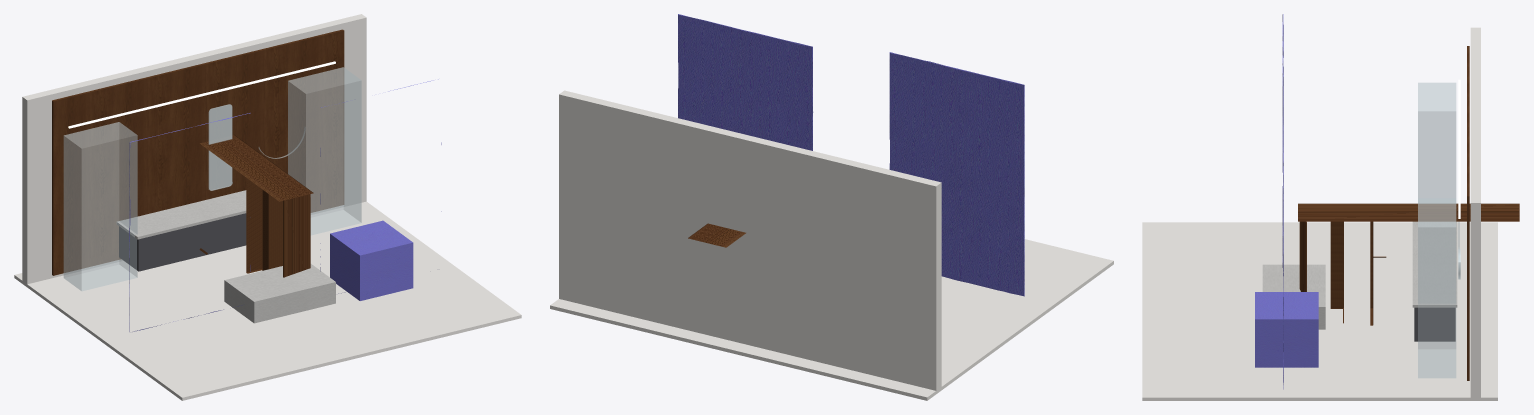
Rendered from movel-design-autoral.glb.
3 renders of one model, left to right at view 1: azimuth 30°, elevation 25°; view 2: azimuth 150°, elevation 25°; view 3: azimuth 270°, elevation 25°, orthographic. The views are drawn at different scales.
Visible parts, largest first — view 1: node_ceramica_acetinada, node_madeira_deck_natural, node_vidro_pele_de_vidro, node_pedra_bancada_clearcoat, node_tecido_juta_linho, node_metal_matte_black, node_fita_led_2700k; view 2: node_ceramica_acetinada, node_tecido_juta_linho, node_madeira_deck_natural; view 3: node_ceramica_acetinada, node_vidro_pele_de_vidro, node_madeira_deck_natural, node_pedra_bancada_clearcoat, node_tecido_juta_linho, node_metal_matte_black, node_fita_led_2700k.
Part boxes in pixels (x1,y1,x2,y2): node_ceramica_acetinada: [14, 14, 521, 400]; node_madeira_deck_natural: [52, 29, 344, 277]; node_vidro_pele_de_vidro: [63, 67, 361, 291]; node_pedra_bancada_clearcoat: [117, 190, 335, 323]; node_tecido_juta_linho: [129, 79, 441, 331]; node_metal_matte_black: [119, 213, 246, 271]; node_fita_led_2700k: [68, 61, 335, 128]; node_ceramica_acetinada: [550, 90, 1113, 400]; node_tecido_juta_linho: [678, 14, 1024, 296]; node_madeira_deck_natural: [688, 223, 745, 247]; node_ceramica_acetinada: [1142, 27, 1497, 400]; node_vidro_pele_de_vidro: [1418, 82, 1460, 378]; node_madeira_deck_natural: [1298, 46, 1519, 380]; node_pedra_bancada_clearcoat: [1262, 221, 1457, 329]; node_tecido_juta_linho: [1255, 14, 1318, 389]; node_metal_matte_black: [1414, 307, 1455, 341]; node_fita_led_2700k: [1458, 79, 1460, 218].
Size of the model in its own units: 5.6 by 3.26 by 5.09.
7 materials, 3 textured.
